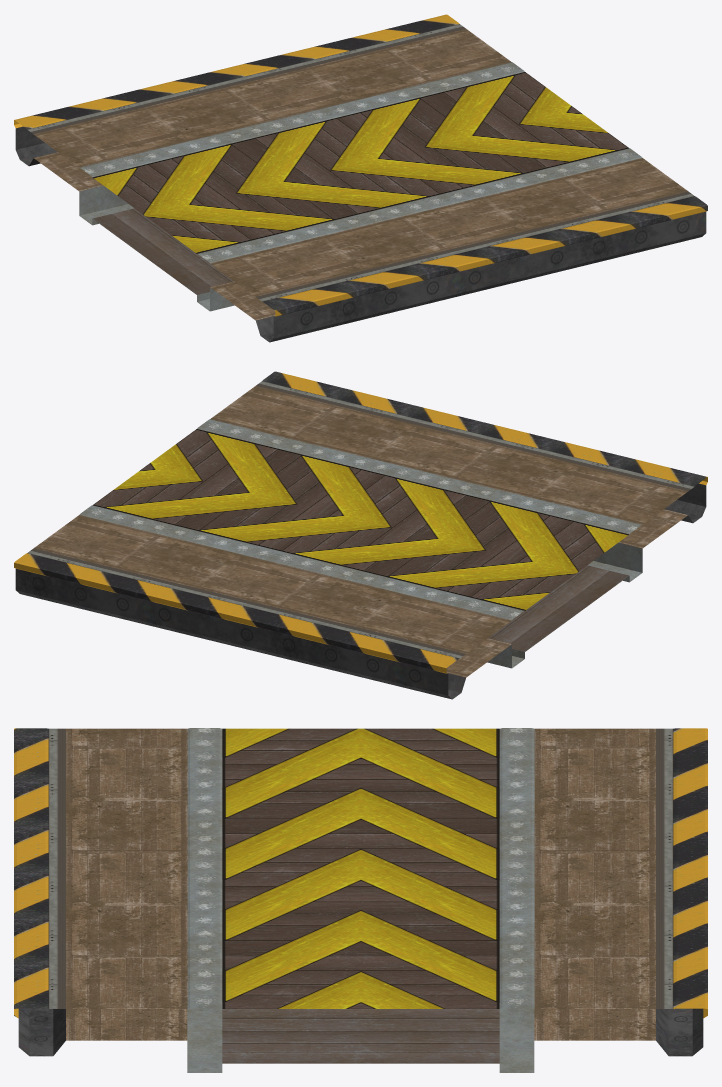
The model's file is Ob_ArrowRoadWide_RC.fbx.
3 renders of one model, top to bottom at view 1: azimuth 30°, elevation 25°; view 2: azimuth 150°, elevation 25°; view 3: azimuth 270°, elevation 25°, orthographic. The views are drawn at different scales.
Visible parts, largest first — view 1: Ob_ArrowRoadWide_RC; view 2: Ob_ArrowRoadWide_RC; view 3: Ob_ArrowRoadWide_RC.
Boxes of the visible parts, x1,y1,x2,y2 form: Ob_ArrowRoadWide_RC: [14, 14, 707, 342]; Ob_ArrowRoadWide_RC: [14, 371, 707, 699]; Ob_ArrowRoadWide_RC: [14, 728, 707, 1072].
Size of the model in its own units: 1912 by 205 by 2000.
